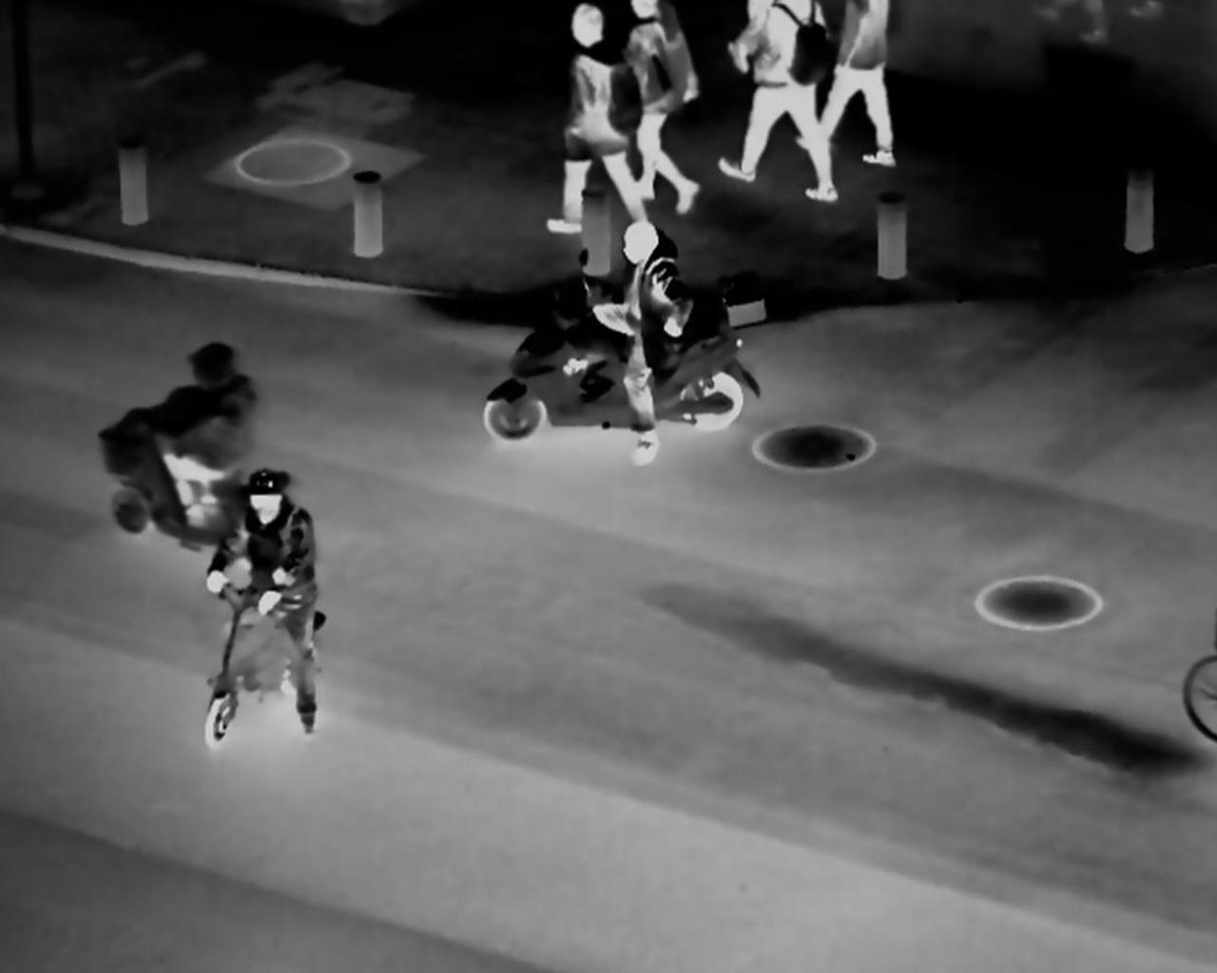person: (203, 467, 323, 747), (583, 221, 686, 468), (564, 2, 645, 257), (136, 333, 266, 491)
